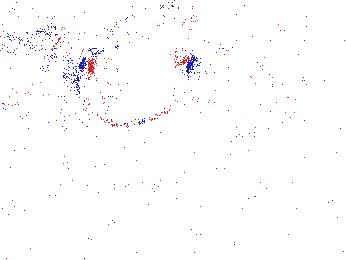moon jellyfish: (77, 48, 188, 129), (1, 34, 98, 120), (196, 64, 293, 127), (101, 5, 197, 67), (177, 40, 266, 102)
